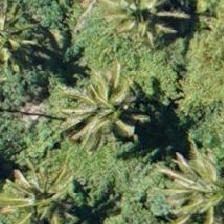coconut_tree: (69, 62, 159, 152), (63, 68, 153, 158), (19, 142, 109, 223), (168, 140, 223, 223), (0, 0, 48, 72)
